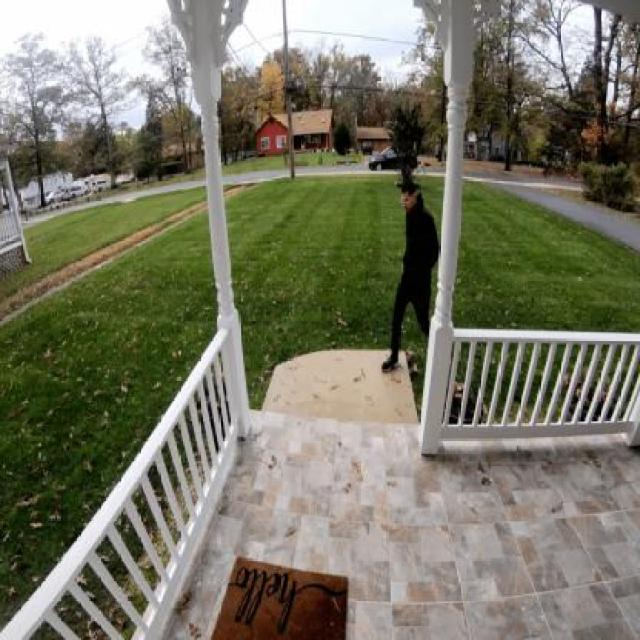person: (386, 180, 444, 376)
